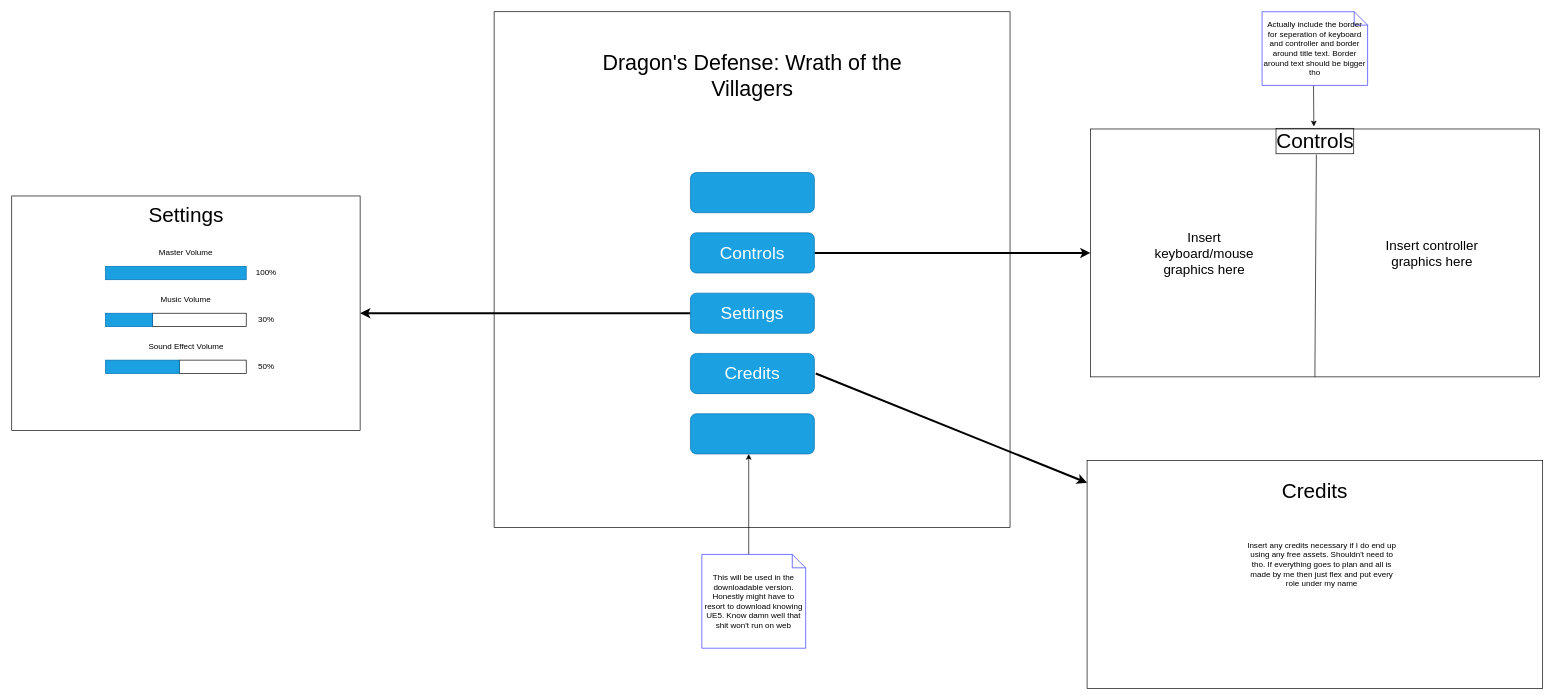
The diagram is 1554 pixels wide and 700 high, and some of its shapes have lost their labels. The centre of each missing label's shape, as x and y in pixels:
Quit: the point at 752,433
Start: the point at 752,192
